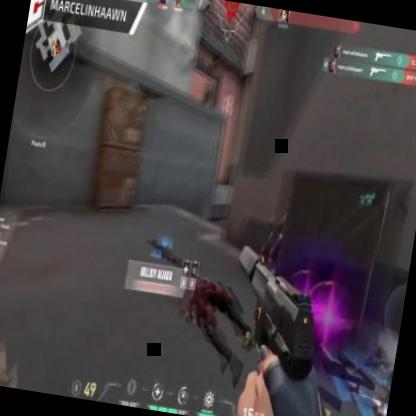enemy: (260, 190, 296, 284)
enemy_head: (284, 194, 296, 214)
